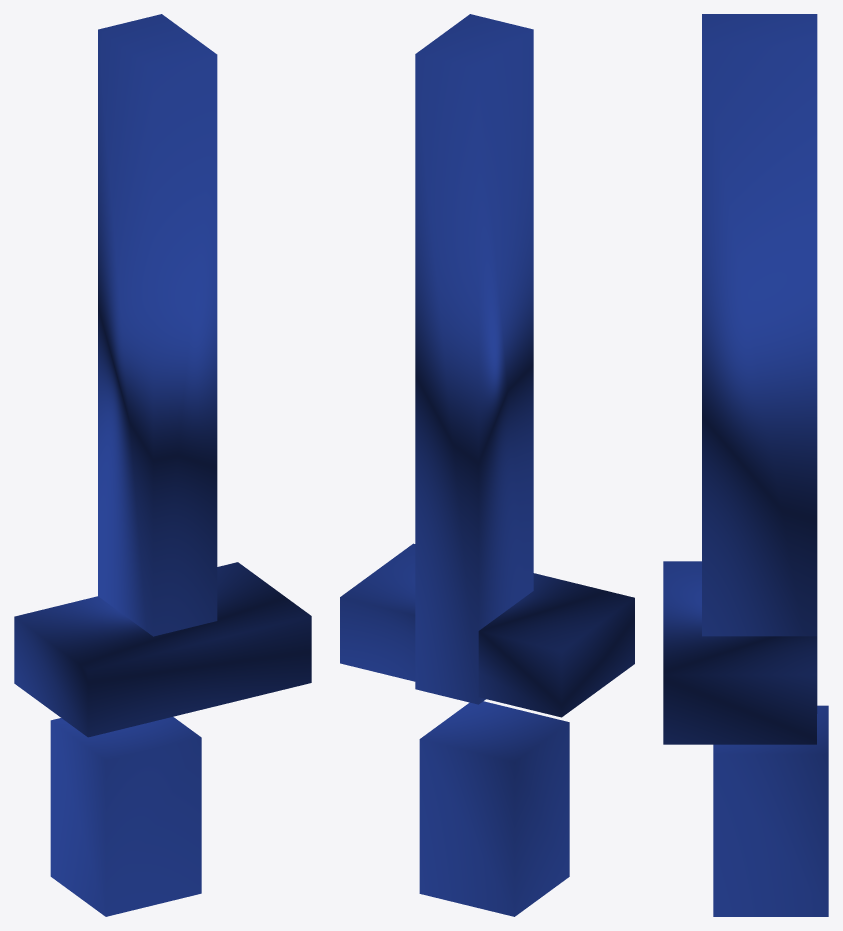
The model's file is ps2_jrpg_dark_blade_corrupted_relic.obj.
3 views of the same model, side by side, from view 1: azimuth 30°, elevation 25°; view 2: azimuth 150°, elevation 25°; view 3: azimuth 270°, elevation 25° (orthographic). The views are drawn at different scales.
Size of the model in its own units: 0.42 by 1.51 by 0.2583.
